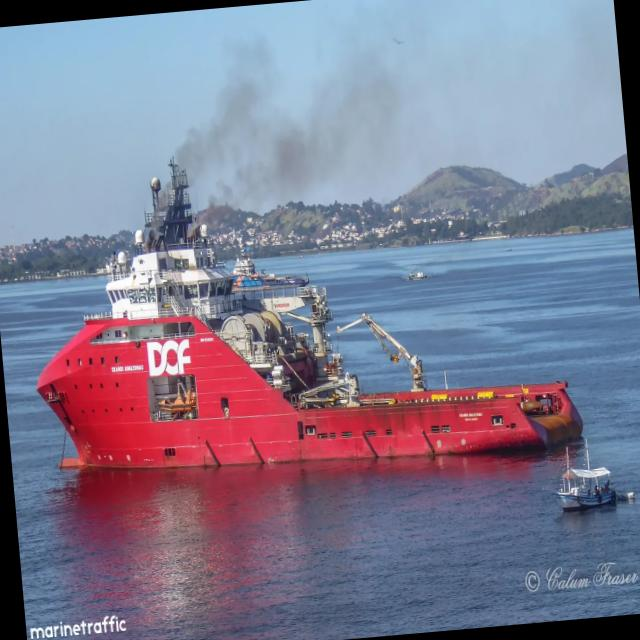Offshore: (36, 163, 583, 467)
